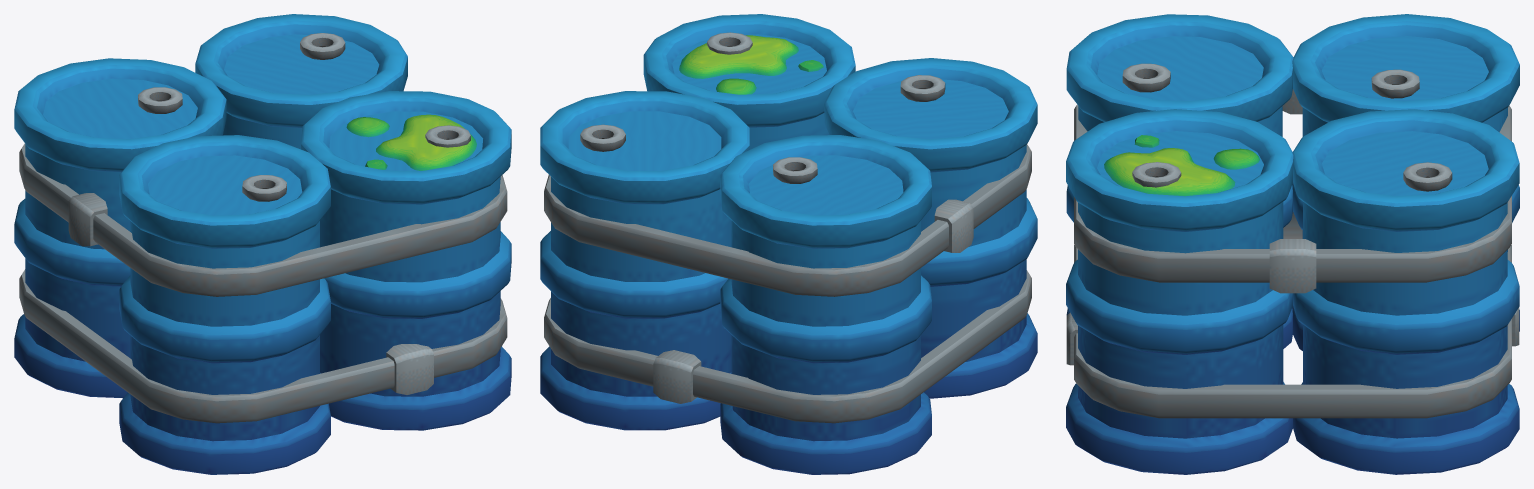
File: Fuel_C_Barrels.gltf
3 views of the same model, side by side, from view 1: azimuth 30°, elevation 25°; view 2: azimuth 150°, elevation 25°; view 3: azimuth 270°, elevation 25° (orthographic). The views are drawn at different scales.
Parts seen in each view (by area): view 1: Fuel_C_Barrels; view 2: Fuel_C_Barrels; view 3: Fuel_C_Barrels.
Part boxes in pixels (box(x1,y1,x2,y2)): Fuel_C_Barrels: box(14, 14, 511, 474); Fuel_C_Barrels: box(540, 14, 1037, 474); Fuel_C_Barrels: box(1066, 14, 1519, 474).
Bounding box in the file's own units: 1.51 × 1.01 × 1.51.
Materials: 1 (1 with a texture image).
